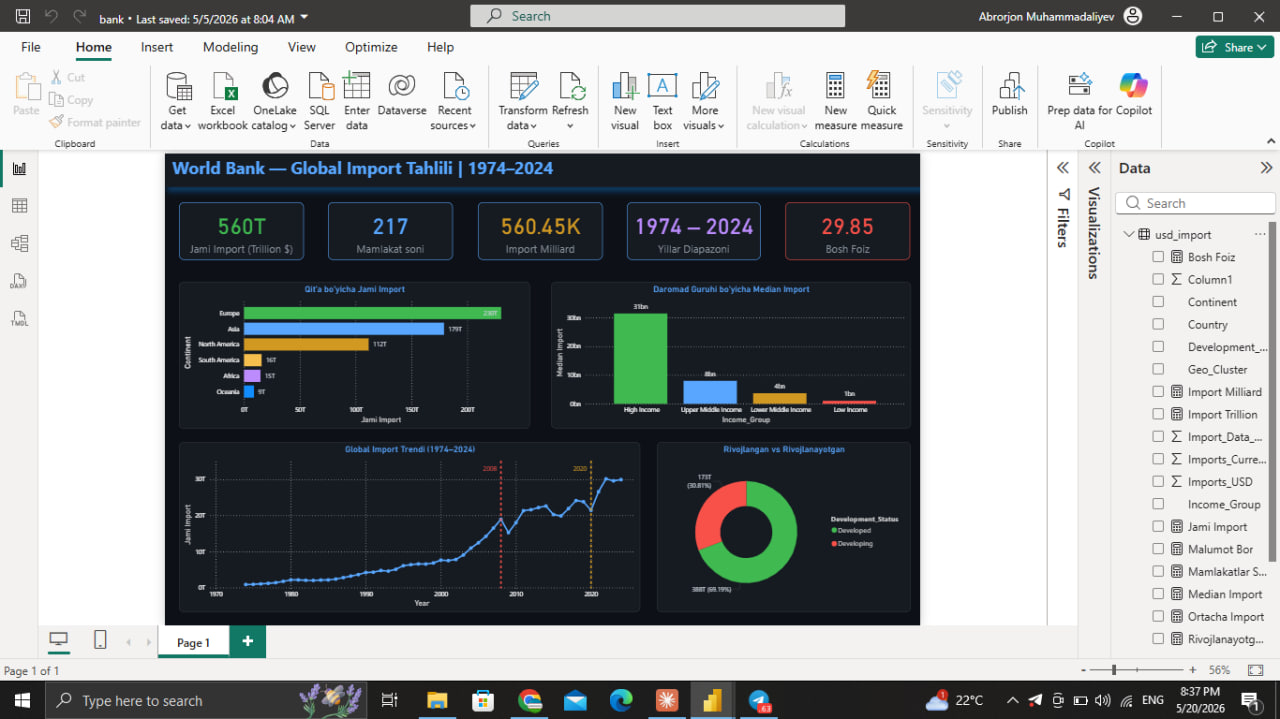

What the dashboard file says about the page in this screenshot:
{"tool":"powerbi","page":{"name":"Page 1","canvas":[1440,900],"ordinal":0},"visuals":[{"type":"textbox","box":[0,0,1440,64.3],"z":0},{"type":"card","fields":{"Values":["usd_import.Jami Import"]},"box":[26.5,92.6,238.1,109.6],"z":1000},{"type":"card","fields":{"Values":["usd_import.Mamlakatlar Soni"]},"box":[311.3,92.6,238.1,109.6],"z":2000},{"type":"card","fields":{"Values":["usd_import.Import Milliard"]},"box":[596.2,92.6,238.1,109.6],"z":3000},{"type":"card","fields":{"Values":["usd_import.Yillar Diapazoni"]},"box":[881.1,92.6,255.1,109.6],"z":4000},{"type":"card","fields":{"Values":["usd_import.Bosh Foiz"]},"box":[1183,92.6,238.1,109.6],"z":5000},{"type":"barChart","title":"Qit''a bo''yicha Jami Import","fields":{"Category":["usd_import.Continent"],"Y":["usd_import.Jami Import"]},"box":[26.5,243.8,669,279.7],"z":6000},{"type":"columnChart","title":" Daromad Guruhi bo''yicha Median Import","fields":{"Category":["usd_import.Income_Group"],"Y":["usd_import.Median Import"]},"box":[735.1,243.8,686,279.7],"z":7000},{"type":"lineChart","title":"Global Import Trendi (1974–2024)","fields":{"Category":["usd_import.Year"],"Y":["usd_import.Jami Import"]},"box":[26.5,549.9,878.7,325],"z":8000},{"type":"donutChart","title":"Rivojlangan vs Rivojlanayotgan","fields":{"Category":["usd_import.Development_Status"],"Y":["usd_import.Jami Import"]},"box":[937.3,549.9,483.8,325],"z":9000}]}

Visuals, with their boxes on the page's 1440x900 design canvas (x1, y1, x2, y2). These are canvas units, not pixel positions in the 1280x719 screenshot, which may show the page scaled, cropped or inside an application window:
textbox: region(0, 0, 1440, 64)
card - usd_import.Jami Import: region(26, 93, 265, 202)
card - usd_import.Mamlakatlar Soni: region(311, 93, 549, 202)
card - usd_import.Import Milliard: region(596, 93, 834, 202)
card - usd_import.Yillar Diapazoni: region(881, 93, 1136, 202)
card - usd_import.Bosh Foiz: region(1183, 93, 1421, 202)
"Qit''a bo''yicha Jami Import" barChart: region(26, 244, 696, 524)
" Daromad Guruhi bo''yicha Median Import" columnChart: region(735, 244, 1421, 524)
"Global Import Trendi (1974–2024)" lineChart: region(26, 550, 905, 875)
"Rivojlangan vs Rivojlanayotgan" donutChart: region(937, 550, 1421, 875)
